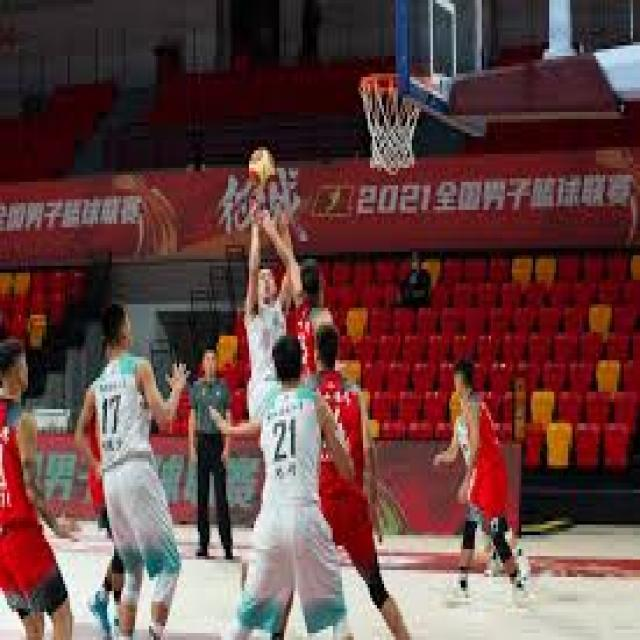rim: (247, 144, 280, 186)
